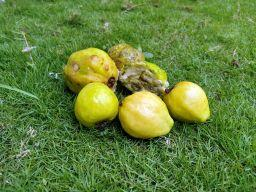guava: (119, 90, 177, 139), (65, 45, 119, 94), (71, 81, 121, 131), (164, 78, 213, 123), (118, 62, 170, 100), (106, 41, 147, 72)
